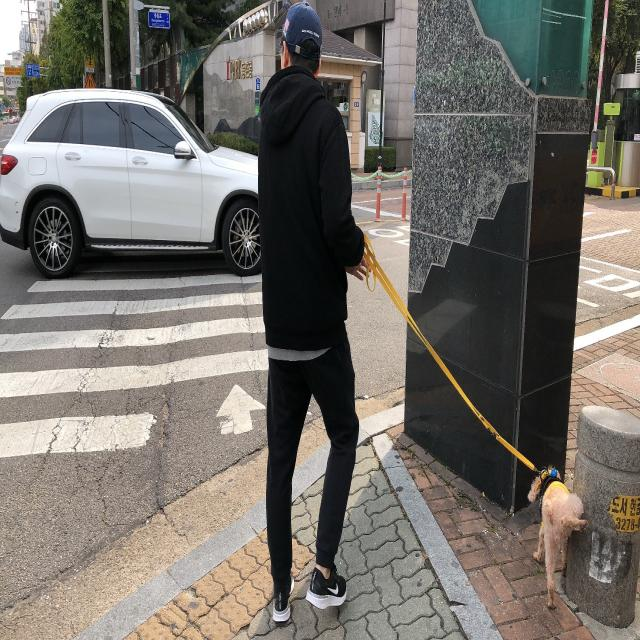횡단보도: (0, 266, 270, 463)
